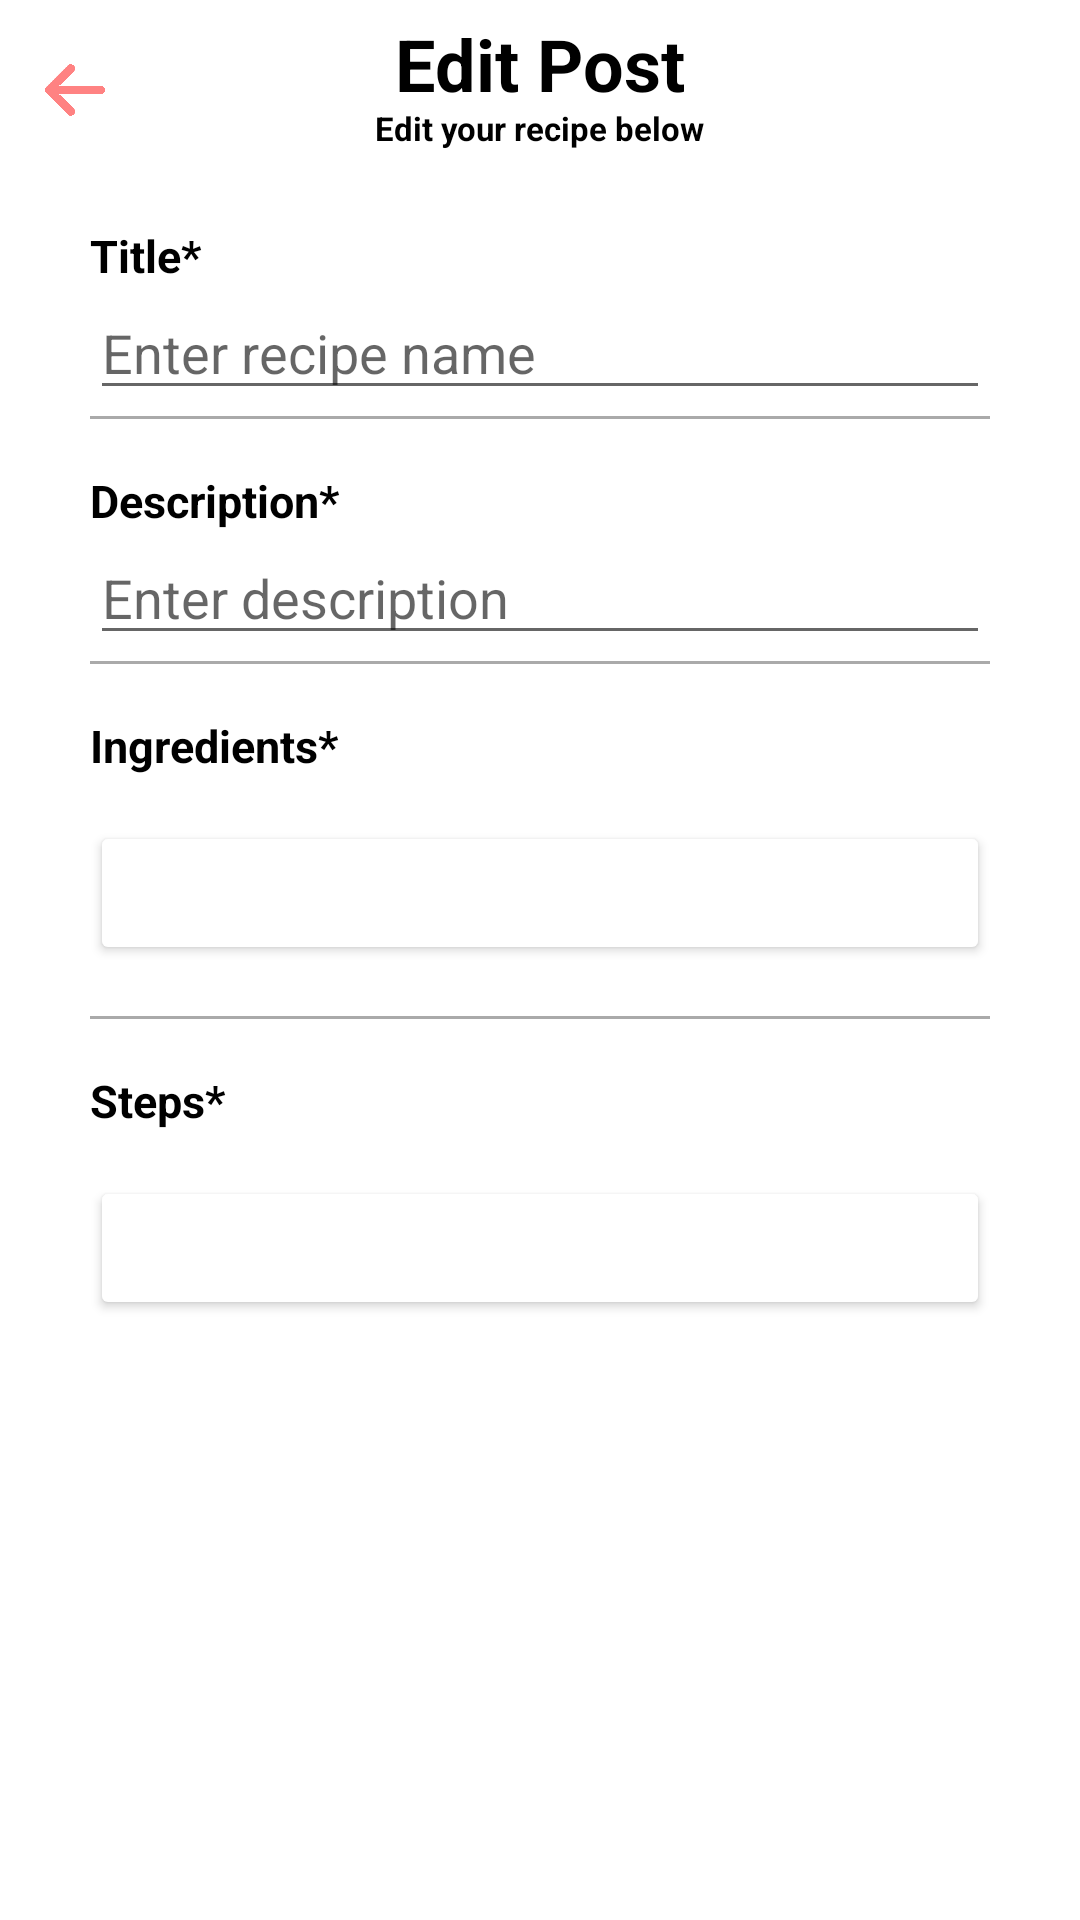

Named icons in this screenshot (1080x1920) and their bounding boxes, (x1, y1, x2, y2):
back arrow: (45, 64, 105, 116)
